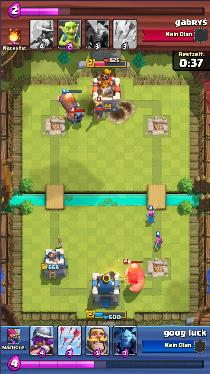ally_archer: (152, 237, 164, 250), (146, 208, 155, 223)
ally_giant: (57, 91, 79, 118)
enemy_giant: (123, 262, 146, 292)
enemy_knight: (91, 99, 103, 118)
enemy_mini_pekka: (69, 111, 85, 124)
